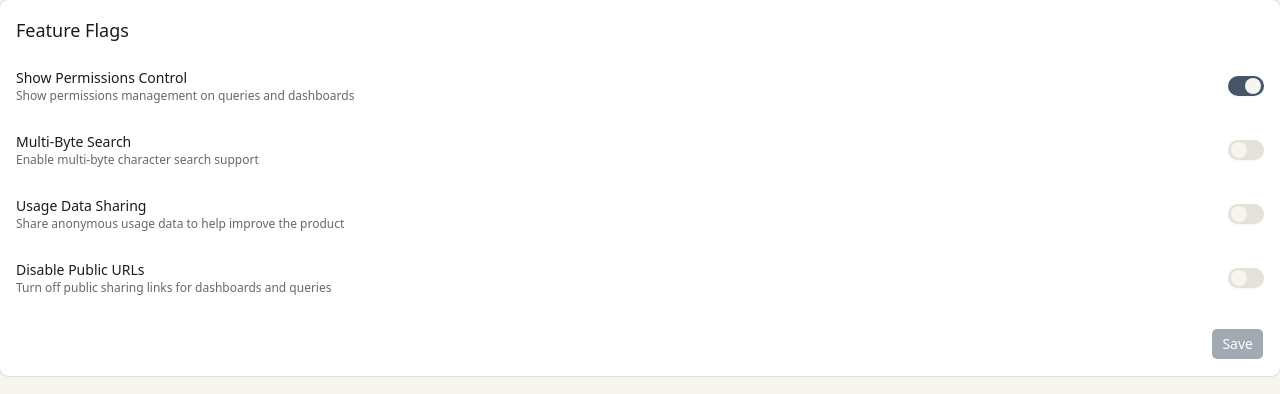
Test case: FeatureFlags › offers nothing to save until a flag would actually change
The width and height of the screenshot is (1280, 394).
Check: the button "Save" is disabled, box [1211,328,1264,360]
Click the switch named "Multi-Byte Search" at (1246, 150), box [1228,140,1264,160]
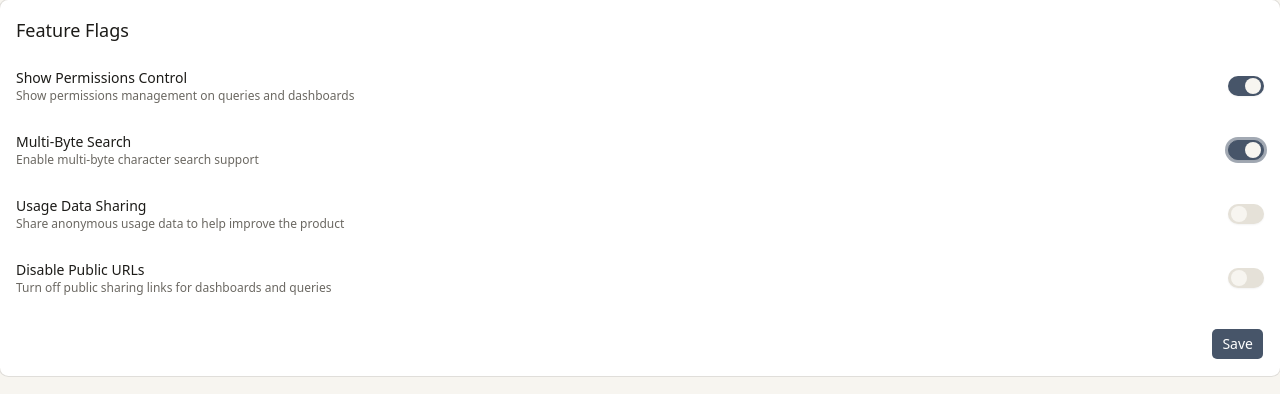
Check: the button "Save" is enabled, box [1211,328,1264,360]
# Back where it started, so there is nothing to write.
Click the switch named "Multi-Byte Search" at (1246, 150), box [1228,140,1264,160]
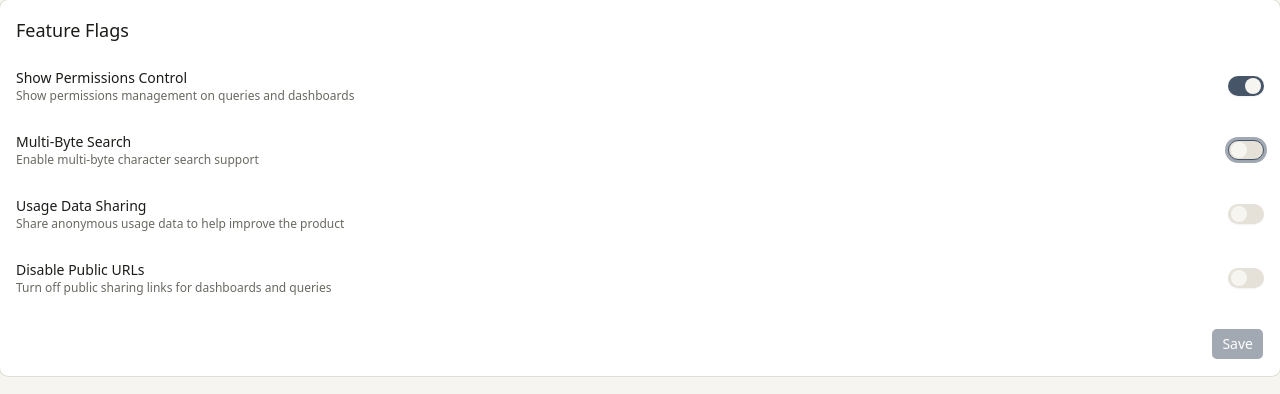
Check: the button "Save" is disabled, box [1211,328,1264,360]
